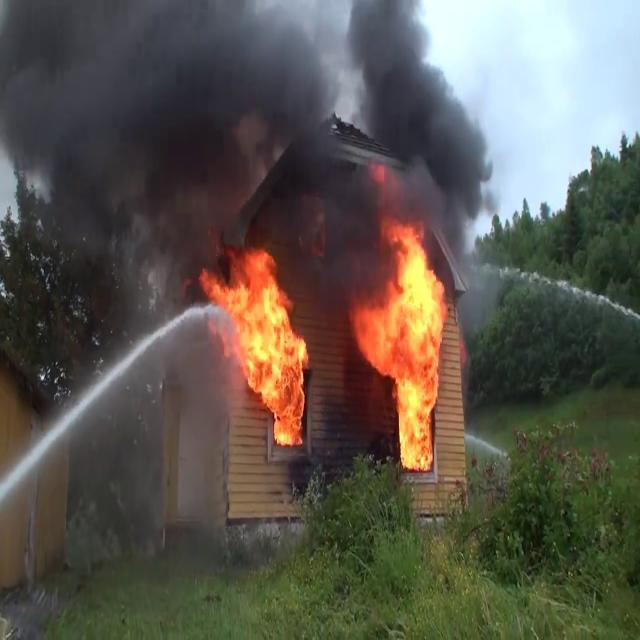Fire: (354, 221, 452, 469), (206, 246, 312, 444)
Smoke: (0, 0, 498, 272)
